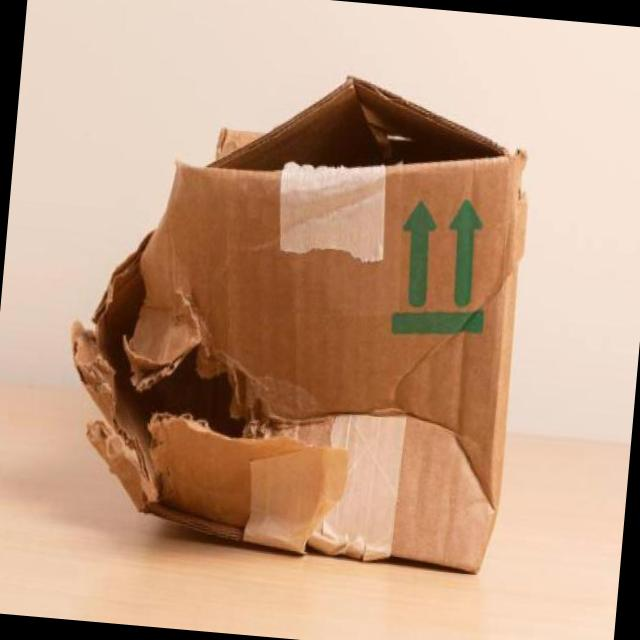box: (65, 70, 525, 574)
crushed: (278, 322, 504, 518)
opened: (215, 82, 525, 180)
tear: (65, 224, 290, 524)
